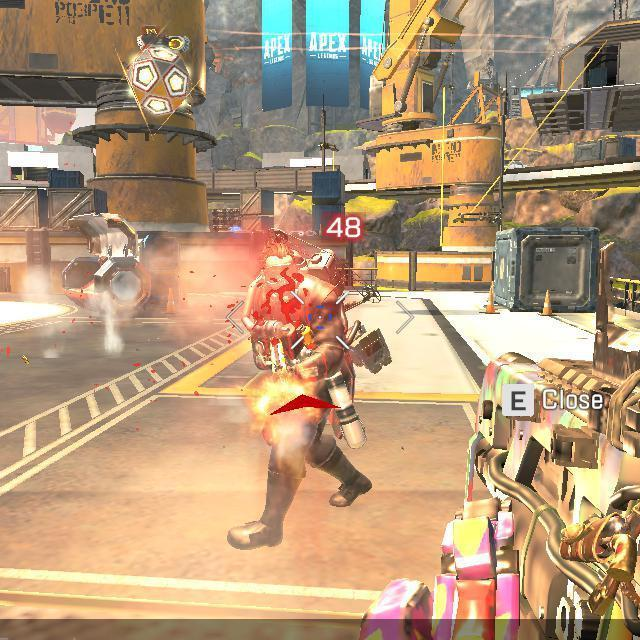avatar: (225, 237, 373, 552)
